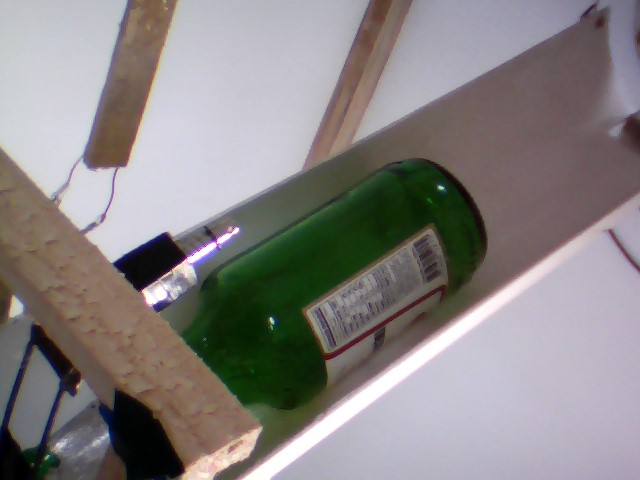vidrio: (163, 154, 493, 414)
